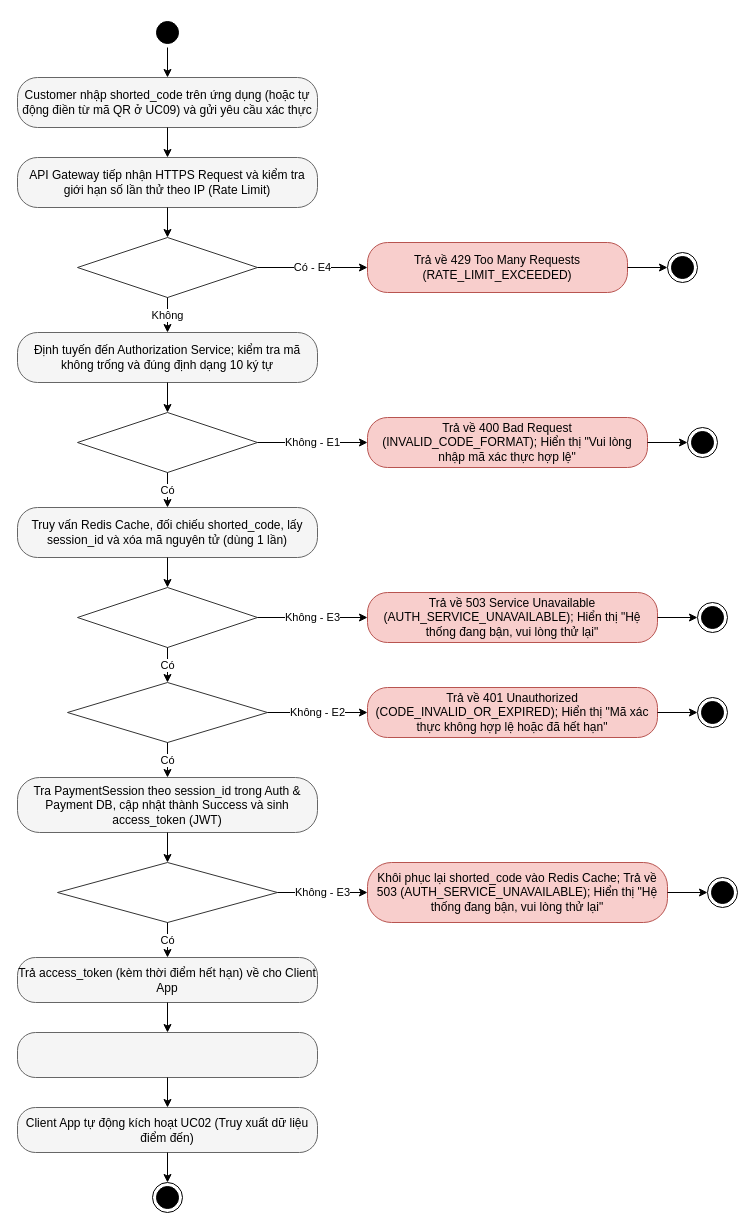
Some shapes in this 755 by 1230 pixel diagram are drawn without their labels. Here are the shapes that lost their labels. From the top down, the box of each, then its label:
(76, 236, 258, 298): Vượt giới hạn thử?
(76, 412, 258, 472): Đúng định dạng?
(76, 586, 258, 648): Redis khả dụng?
(66, 682, 268, 742): Mã tồn tại và còn hạn?
(56, 862, 278, 922): Auth & Payment DB khả dụng?
(16, 1032, 318, 1078): Client App lưu access_token vào localStorage
